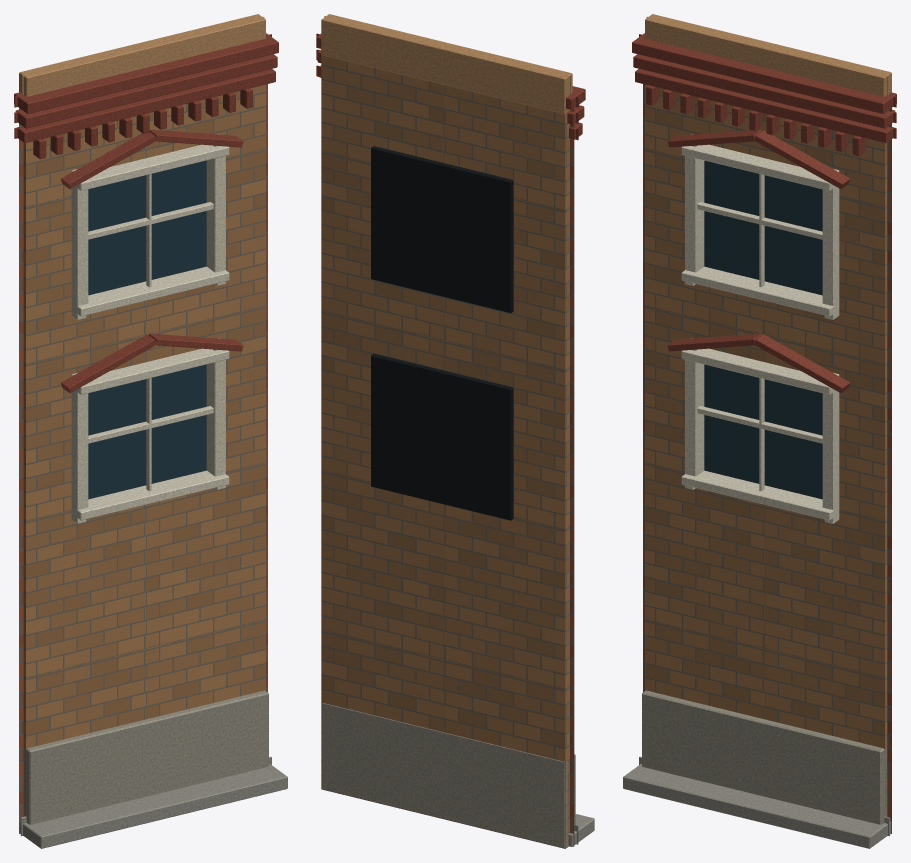
The model's file is VICT19_lod1.glb.
3 renders of one model, left to right at view 1: azimuth 30°, elevation 25°; view 2: azimuth 150°, elevation 25°; view 3: azimuth 330°, elevation 25°, orthographic.
Visible parts, largest first — view 1: VICT19_FRONT_LOD1; view 2: VICT19_FRONT_LOD1; view 3: VICT19_FRONT_LOD1.
Boxes of the visible parts, x1,y1,x2,y2 form: VICT19_FRONT_LOD1: [14, 14, 287, 848]; VICT19_FRONT_LOD1: [316, 14, 594, 848]; VICT19_FRONT_LOD1: [623, 14, 896, 848].
Bounding box in the file's own units: 3.44 × 9.66 × 0.65.
Materials: 10 (8 with a texture image).
